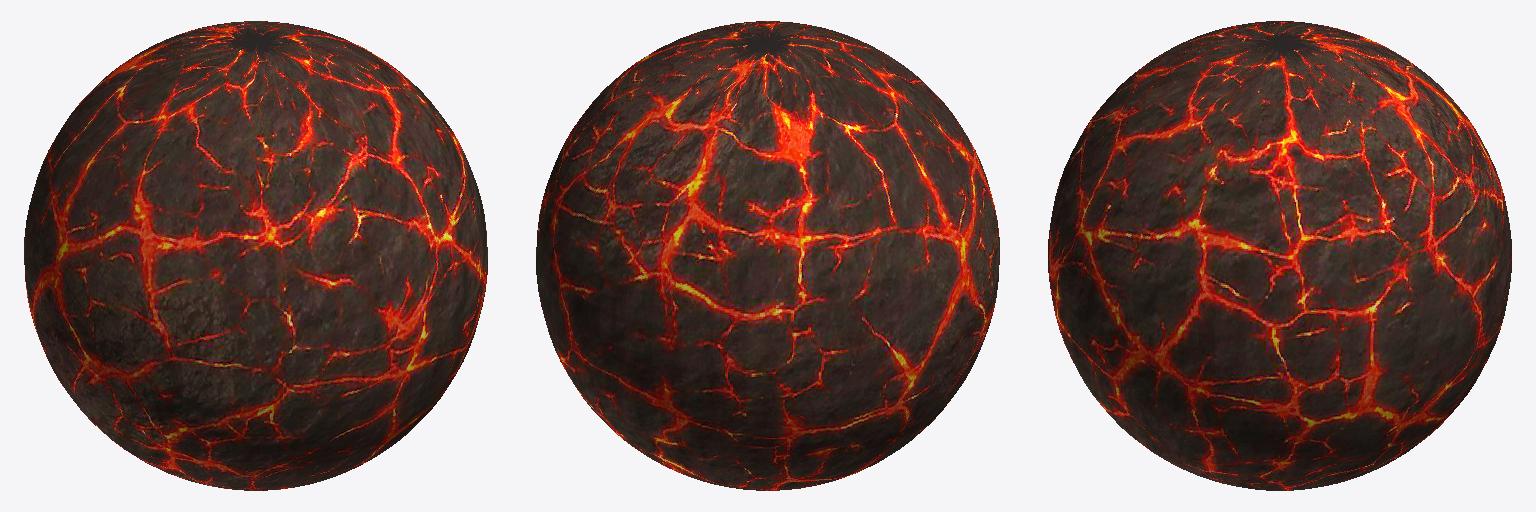
3 renders of one model, left to right at view 1: azimuth 30°, elevation 25°; view 2: azimuth 150°, elevation 25°; view 3: azimuth 270°, elevation 25°, orthographic.
Visible parts, largest first — view 1: Earth; view 2: Earth; view 3: Earth.
Boxes of the visible parts, x1=… form: Earth: x1=24, y1=21, x2=487, y2=490; Earth: x1=536, y1=21, x2=999, y2=490; Earth: x1=1048, y1=21, x2=1511, y2=490.
Size of the model in its own units: 4.92 by 4.97 by 4.92.
Materials: 1 (1 with a texture image).